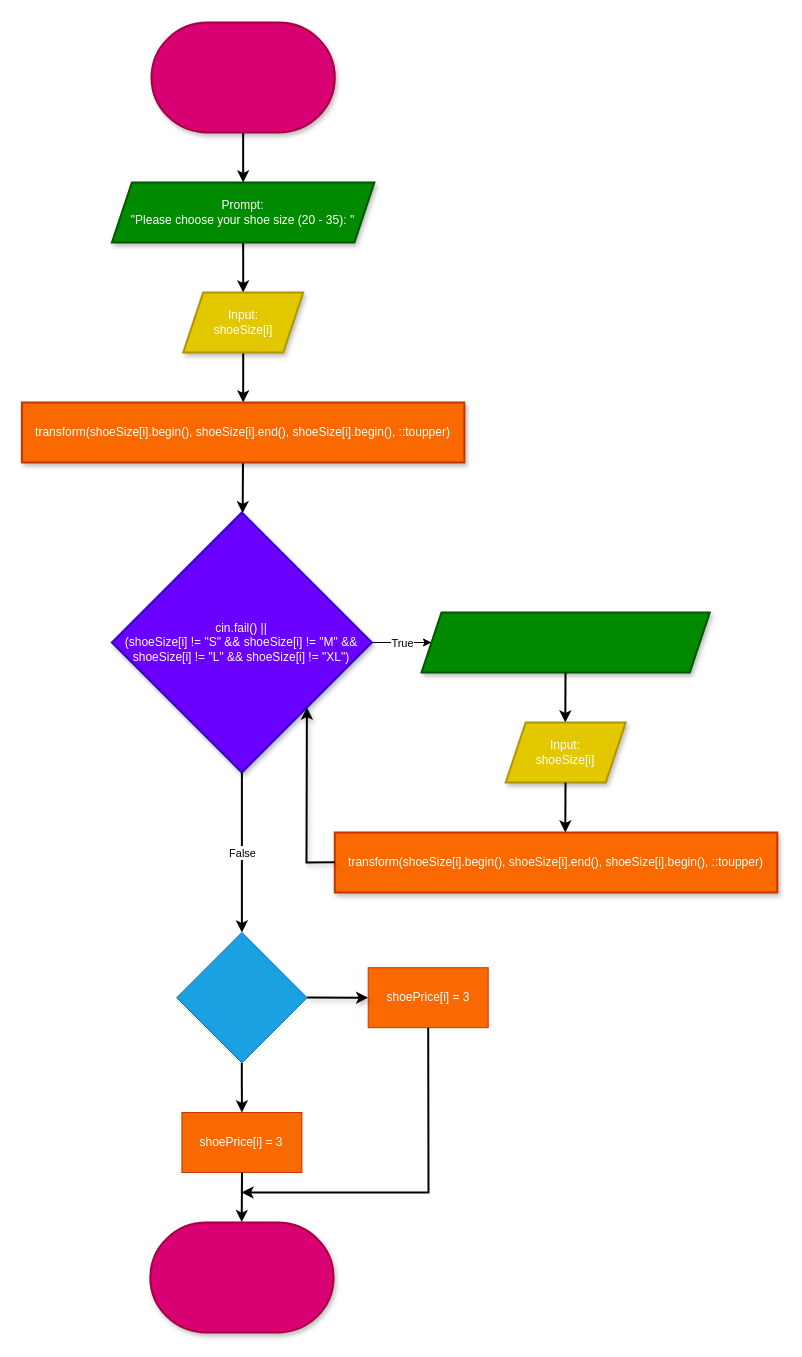
Image size: 802x1357. Some labels were removed from this diagram. The shapes that lost their labels are listed below. From the top down, each one's centre as x and y in pixels, then its label:
the point at 243,78: selectShoe (i, shoeSize[], shoePrice[])
the point at 566,643: Prompt: "Please choose a valid shoe size (20 - 35): "
the point at 241,997: shoeSize[i] <= 25
the point at 242,1278: return shoePrice[i]
